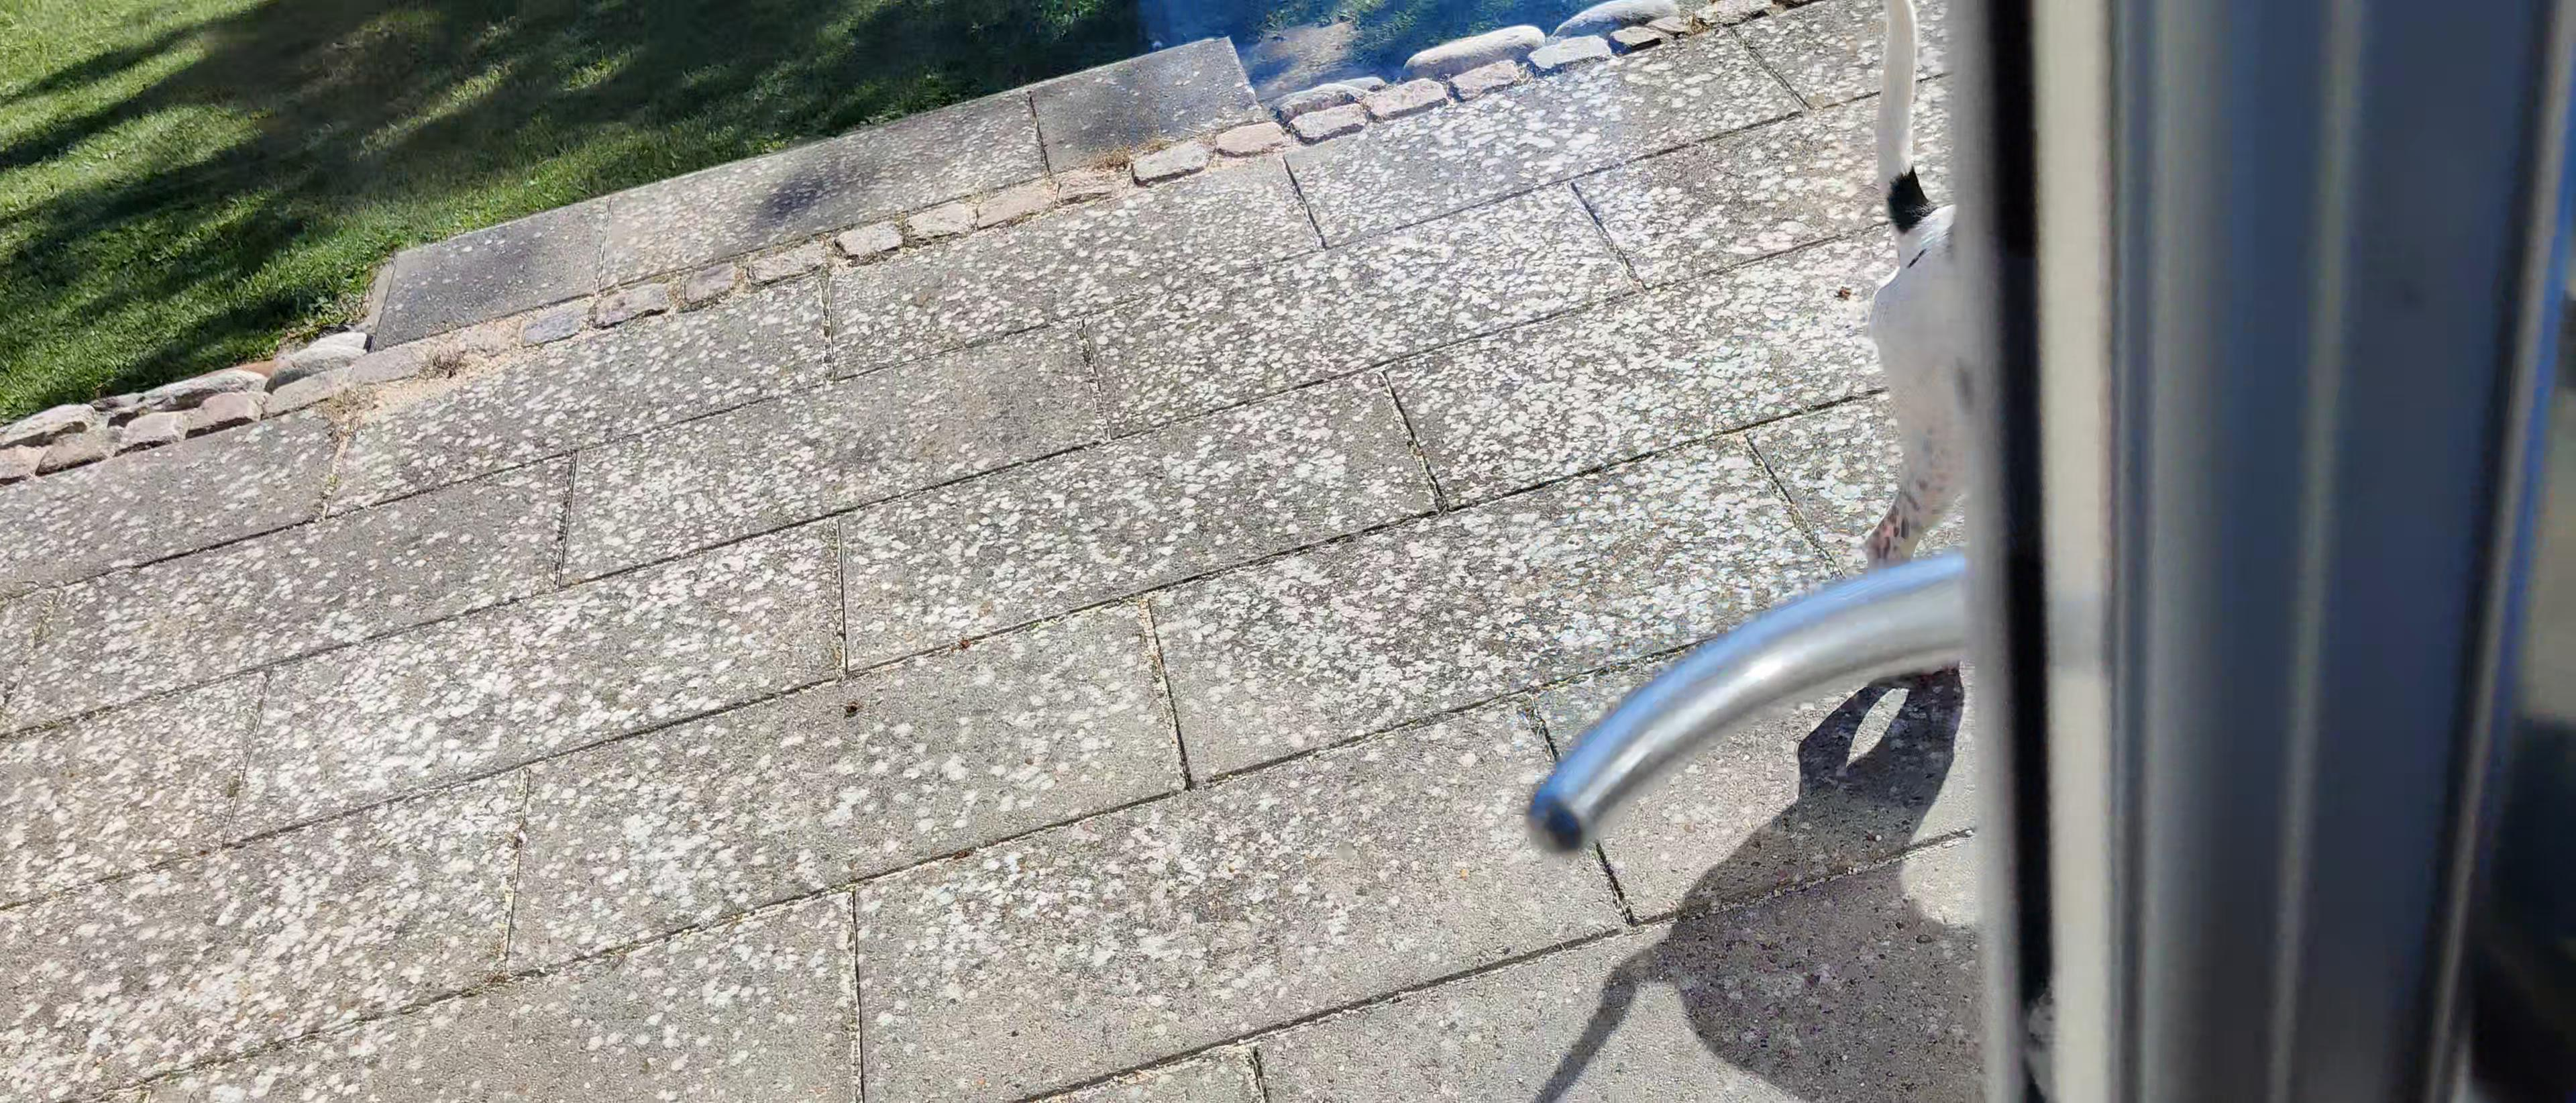Dog: (1825, 0, 2017, 699)
